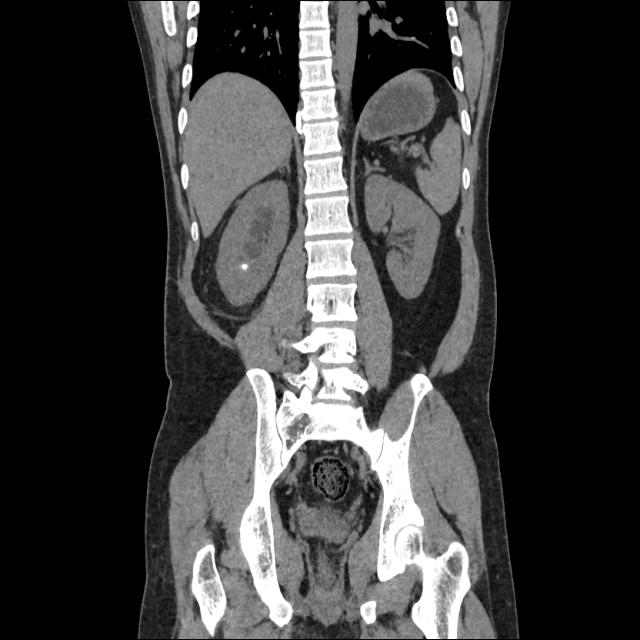kidney: (362, 159, 448, 303), (215, 174, 298, 315)
stone: (237, 255, 250, 276)
